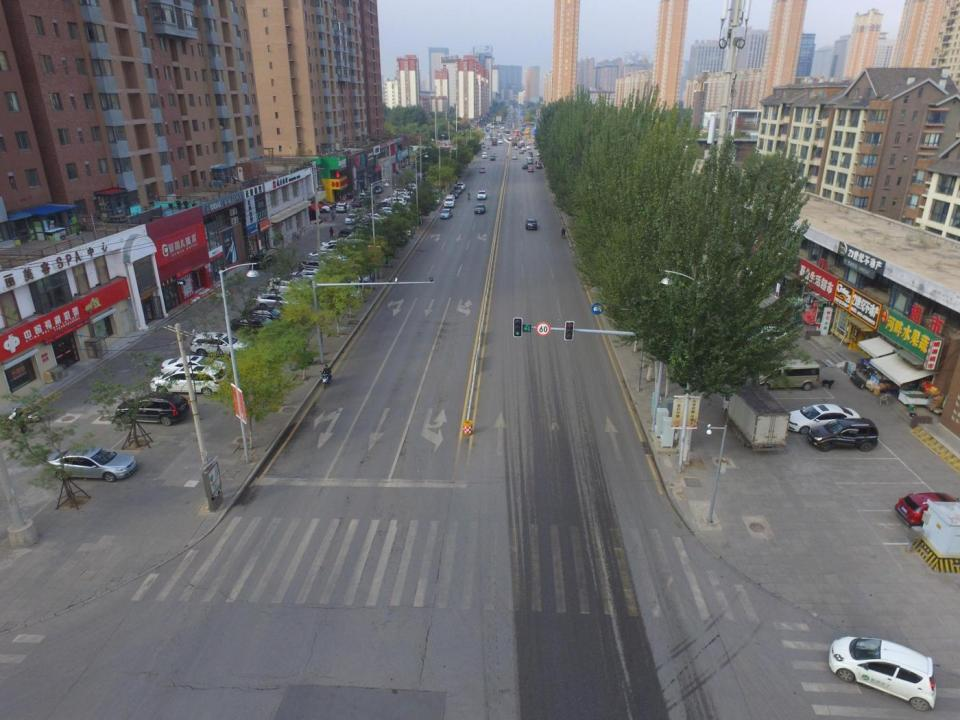bus: (504, 130, 511, 137), (514, 130, 519, 137)
car: (826, 633, 938, 714), (50, 447, 137, 482), (808, 417, 880, 452), (149, 363, 225, 395), (115, 392, 189, 424), (895, 491, 958, 528), (782, 406, 857, 436), (161, 355, 230, 386), (190, 331, 253, 360), (255, 292, 307, 324), (266, 276, 318, 308), (232, 314, 289, 341), (239, 306, 292, 334), (731, 324, 784, 349), (248, 252, 276, 268), (317, 198, 334, 210), (311, 203, 329, 213), (346, 213, 358, 225), (524, 219, 537, 230), (350, 196, 364, 206), (440, 208, 452, 219), (473, 204, 486, 214), (444, 197, 455, 208), (336, 203, 348, 213), (373, 185, 384, 195), (448, 190, 460, 199), (359, 191, 372, 199), (477, 190, 486, 200), (454, 185, 462, 195), (458, 182, 466, 190), (479, 166, 486, 173), (528, 166, 534, 173), (490, 155, 496, 162), (536, 163, 543, 168), (522, 164, 527, 170), (527, 154, 532, 160), (521, 146, 526, 152), (536, 152, 543, 156), (512, 154, 517, 159), (534, 144, 538, 150), (486, 146, 491, 150), (519, 150, 524, 154), (518, 143, 522, 148), (498, 139, 502, 144), (482, 144, 486, 148), (514, 146, 518, 150), (526, 146, 530, 150), (501, 126, 504, 129), (487, 135, 489, 139), (499, 133, 502, 135), (497, 130, 499, 133)
truck: (511, 138, 518, 147), (491, 138, 498, 145)
van: (753, 357, 819, 395), (526, 157, 534, 164), (482, 152, 488, 159)
